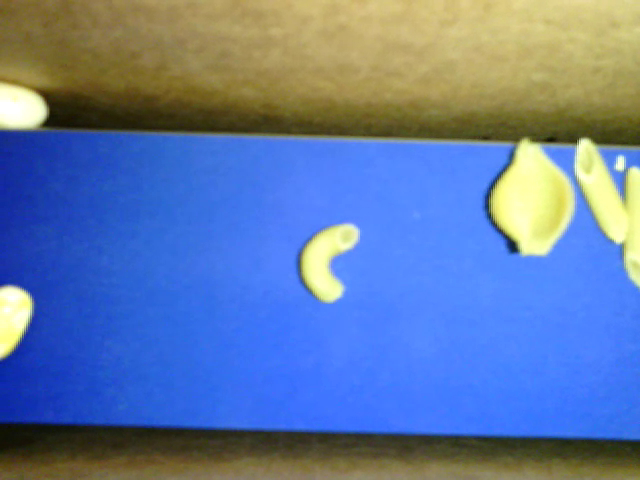elbow: (298, 223, 360, 304)
penne: (572, 137, 627, 246), (625, 166, 639, 287)
shell: (486, 137, 577, 257)
